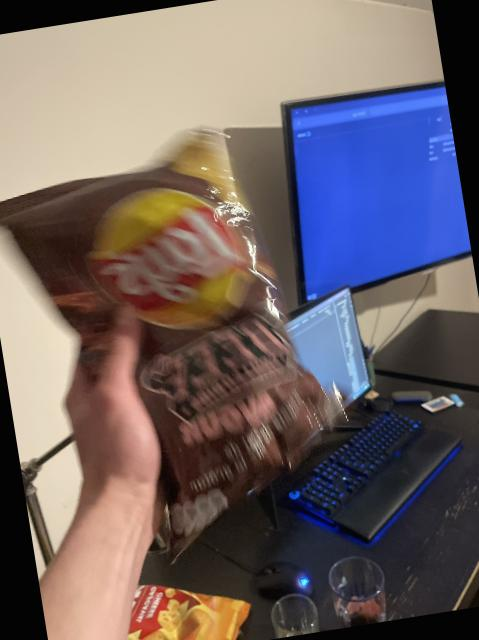Chio Cascaval 125g: (103, 564, 253, 640)
Lays Beef Grilled Ribs 125g: (0, 131, 344, 572)
